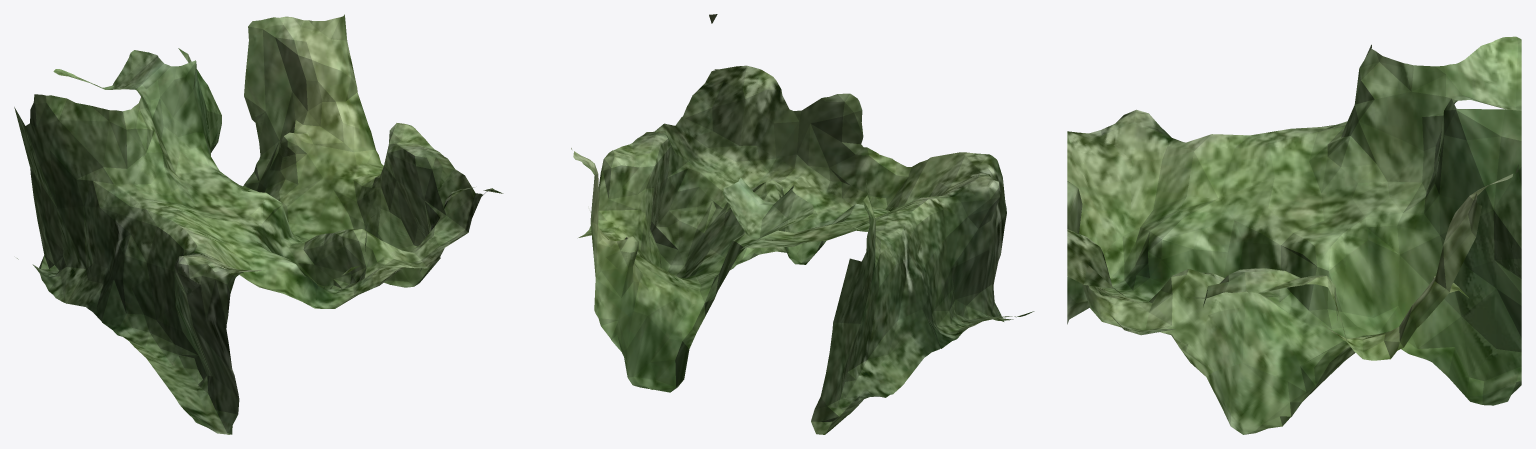
3 renders of one model, left to right at view 1: azimuth 30°, elevation 25°; view 2: azimuth 150°, elevation 25°; view 3: azimuth 270°, elevation 25°, orthographic. The views are drawn at different scales.
Size of the model in its own units: 2.95 by 2.07 by 2.95.
Materials: 5 (5 with a texture image).
